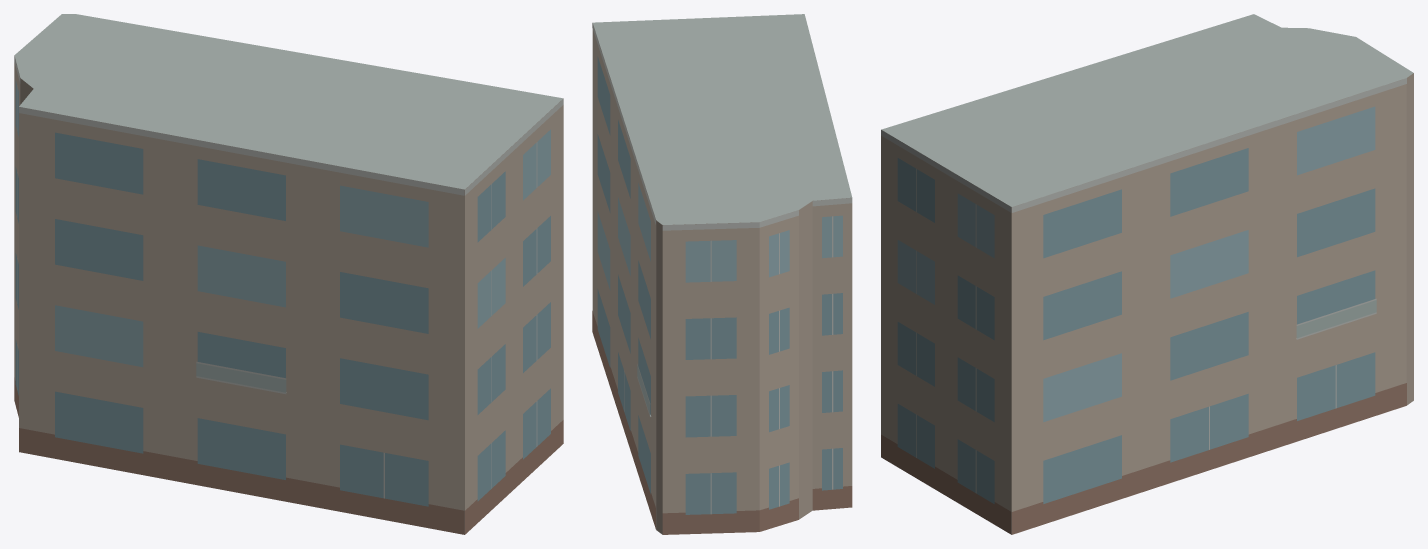
Rendered from survey-upis-32627327.glb.
3 views of the same model, side by side, from view 1: azimuth 30°, elevation 25°; view 2: azimuth 150°, elevation 25°; view 3: azimuth 270°, elevation 25° (orthographic). The views are drawn at different scales.
Visible parts, largest first — view 1: survey-upis-32627327.tmp; view 2: survey-upis-32627327.tmp; view 3: survey-upis-32627327.tmp.
Boxes of the visible parts, x1=… form: survey-upis-32627327.tmp: x1=14, y1=14, x2=563, y2=534; survey-upis-32627327.tmp: x1=592, y1=14, x2=852, y2=534; survey-upis-32627327.tmp: x1=881, y1=14, x2=1413, y2=534.
Size of the model in its own units: 16.95 by 13.4 by 19.75.
